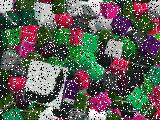Left: (23, 59, 68, 109)
